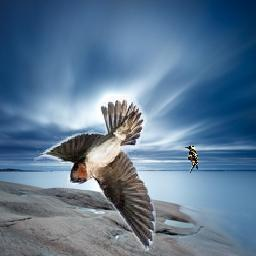Swallow: (34, 97, 156, 252)
Woodpecker: (184, 145, 198, 173)
